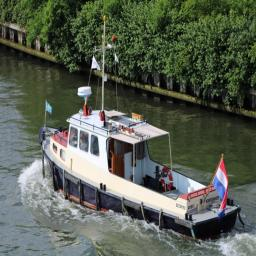tugboat: (36, 83, 246, 249)
